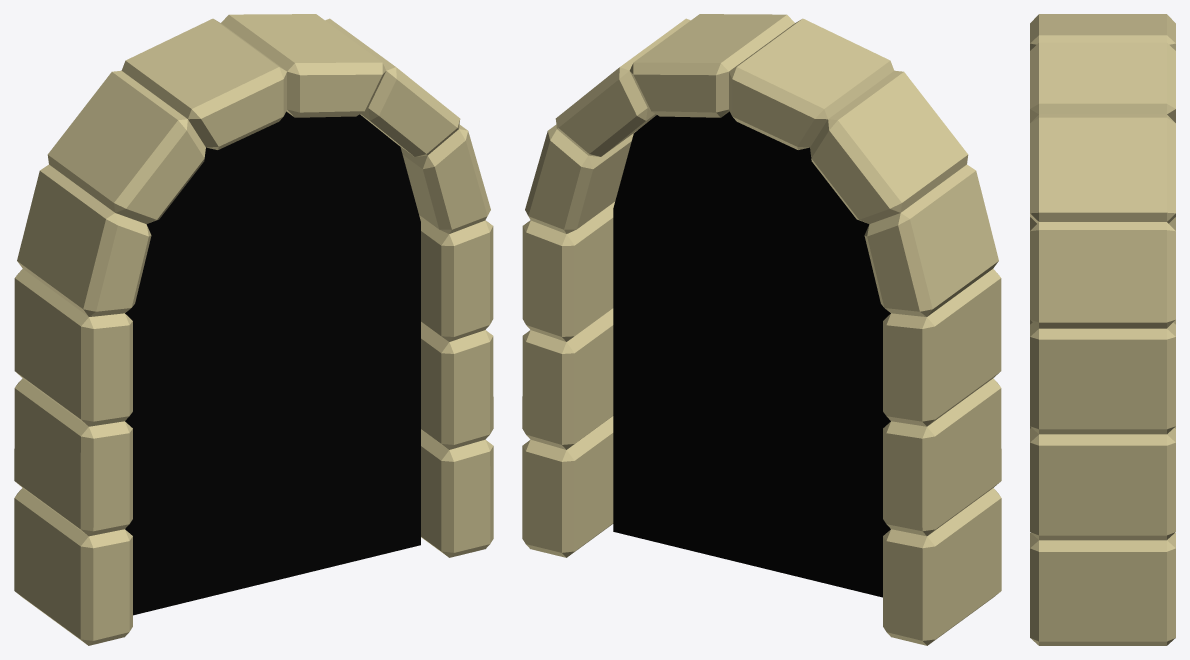
File: Door.fbx
The picture shows the model from 3 angles, left to right: view 1: azimuth 30°, elevation 25°; view 2: azimuth 150°, elevation 25°; view 3: azimuth 270°, elevation 25°; orthographic projection. The views are drawn at different scales.
Visible parts, largest first — view 1: Cube.001; view 2: Cube.001; view 3: Cube.001.
Boxes of the visible parts, bbox=[...] form: Cube.001: bbox=[14, 14, 493, 645]; Cube.001: bbox=[522, 14, 1001, 645]; Cube.001: bbox=[1030, 14, 1175, 645].
Size of the model in its own units: 315 by 389 by 100.
